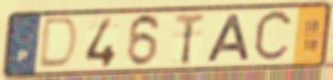4: (83, 15, 118, 70)
6: (126, 12, 166, 70)
A: (202, 13, 253, 64)
C: (251, 7, 296, 66)
D: (35, 16, 81, 72)
T: (173, 11, 207, 67)
